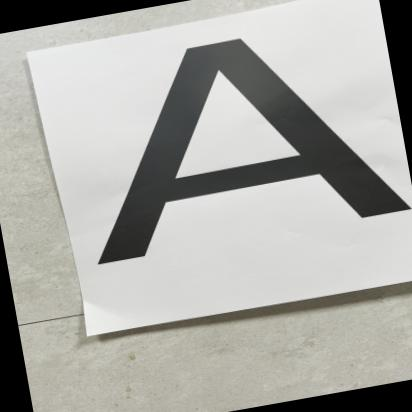seat: (64, 3, 412, 285)
